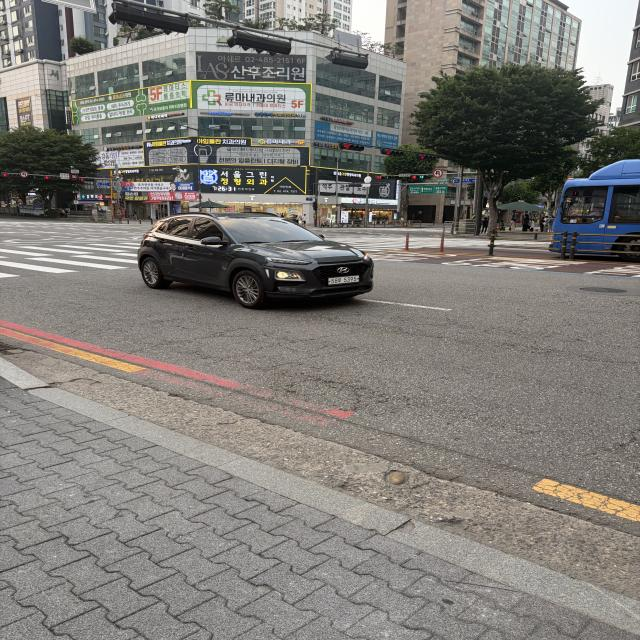car: (122, 198, 428, 344)
